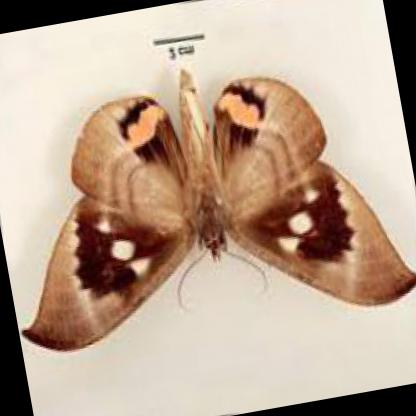fruit sucking moth: (20, 67, 416, 351)
